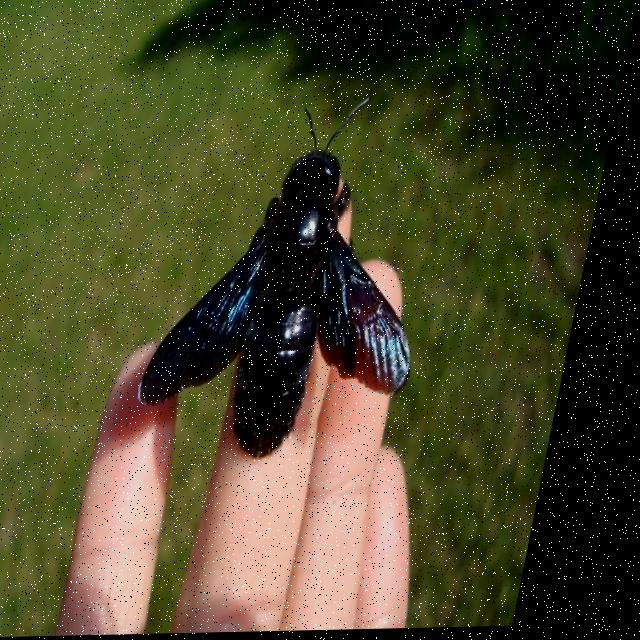Xylocopa: (139, 106, 474, 474)
